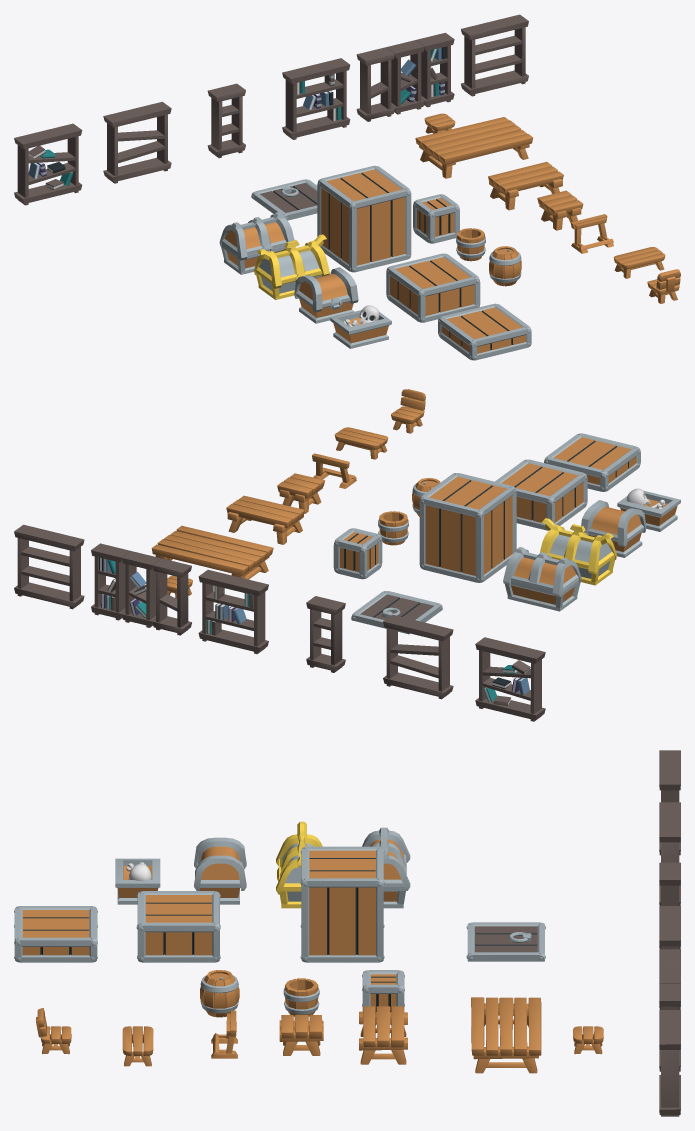
Rendered from DungeonDressings.fbx.
3 views of the same model, one above another, from view 1: azimuth 30°, elevation 25°; view 2: azimuth 150°, elevation 25°; view 3: azimuth 270°, elevation 25° (orthographic). The views are drawn at different scales.
Visible parts, largest first — view 1: cratePlatform_large, cratePlatform_medium, bookcaseWideFilled, bookcaseWideFilled_broken, cratePlatform_small, tableLarge, bookcaseWide, bookcaseWide_broken, chestTop_rare, chestTop_uncommon, bookcase, bookcaseFilled_broken (+16 smaller); view 2: cratePlatform_large, cratePlatform_medium, bookcaseWideFilled, bookcaseWideFilled_broken, bookcaseWide, bookcaseWide_broken, tableLarge, cratePlatform_small, chestTop_uncommon, chestTop_rare, bookcase, bookcaseFilled (+14 smaller); view 3: cratePlatform_large, cratePlatform_medium, tableLarge, cratePlatform_small, trapdoor, tableMedium, chestTop_common, bookcaseWide, chest_common_empty, chestTop_uncommon, crateDark, tableSmall (+13 smaller).
Boxes of the visible parts, x1=… form: cratePlatform_large: x1=317, y1=165, x2=411, y2=272; cratePlatform_medium: x1=386, y1=253, x2=480, y2=322; bookcaseWideFilled: x1=282, y1=58, x2=350, y2=139; bookcaseWideFilled_broken: x1=14, y1=123, x2=82, y2=205; cratePlatform_small: x1=438, y1=303, x2=531, y2=360; tableLarge: x1=415, y1=117, x2=533, y2=178; bookcaseWide: x1=461, y1=14, x2=528, y2=96; bookcaseWide_broken: x1=103, y1=101, x2=171, y2=183; chestTop_rare: x1=254, y1=234, x2=329, y2=288; chestTop_uncommon: x1=219, y1=212, x2=294, y2=260; bookcase: x1=207, y1=83, x2=245, y2=158; bookcaseFilled_broken: x1=386, y1=40, x2=424, y2=114; cratePlatform_large: x1=419, y1=473, x2=516, y2=582; cratePlatform_medium: x1=495, y1=459, x2=587, y2=530; bookcaseWideFilled: x1=198, y1=569, x2=268, y2=654; bookcaseWideFilled_broken: x1=475, y1=637, x2=545, y2=721; bookcaseWide: x1=14, y1=524, x2=84, y2=609; bookcaseWide_broken: x1=383, y1=614, x2=453, y2=699; tableLarge: x1=151, y1=525, x2=273, y2=579; cratePlatform_small: x1=544, y1=433, x2=640, y2=491; chestTop_uncommon: x1=503, y1=547, x2=581, y2=597; chestTop_rare: x1=540, y1=518, x2=616, y2=574; bookcase: x1=306, y1=596, x2=345, y2=672; bookcaseFilled: x1=91, y1=543, x2=130, y2=620; cratePlatform_large: x1=300, y1=846, x2=384, y2=962; cratePlatform_medium: x1=136, y1=891, x2=220, y2=962; tableLarge: x1=471, y1=997, x2=541, y2=1073; cratePlatform_small: x1=14, y1=906, x2=97, y2=962; trapdoor: x1=466, y1=922, x2=545, y2=961; tableMedium: x1=359, y1=1006, x2=407, y2=1064; chestTop_common: x1=194, y1=837, x2=246, y2=890; bookcaseWide: x1=659, y1=1010, x2=680, y2=1116; chest_common_empty: x1=115, y1=858, x2=160, y2=904; chestTop_uncommon: x1=362, y1=827, x2=410, y2=890; crateDark: x1=362, y1=970, x2=404, y2=1012; tableSmall: x1=279, y1=1015, x2=323, y2=1055.
Bounding box in the file's own units: 1699 × 275 × 1629.
